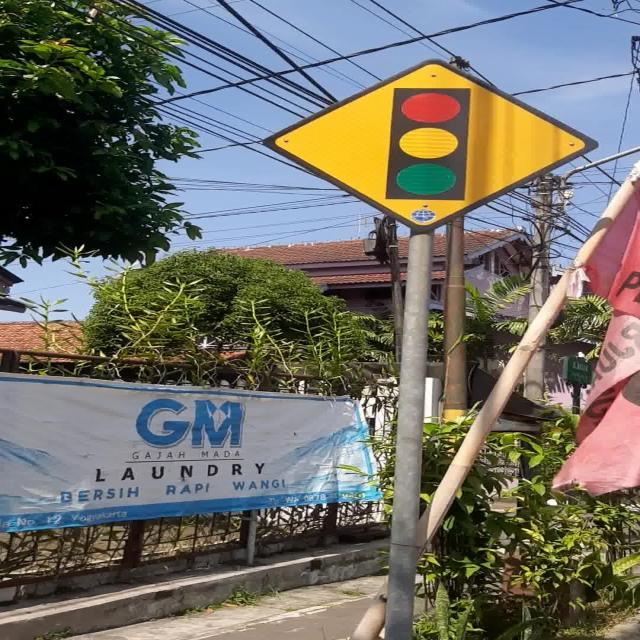Lampu Lalu Lintas: (262, 58, 600, 232)
